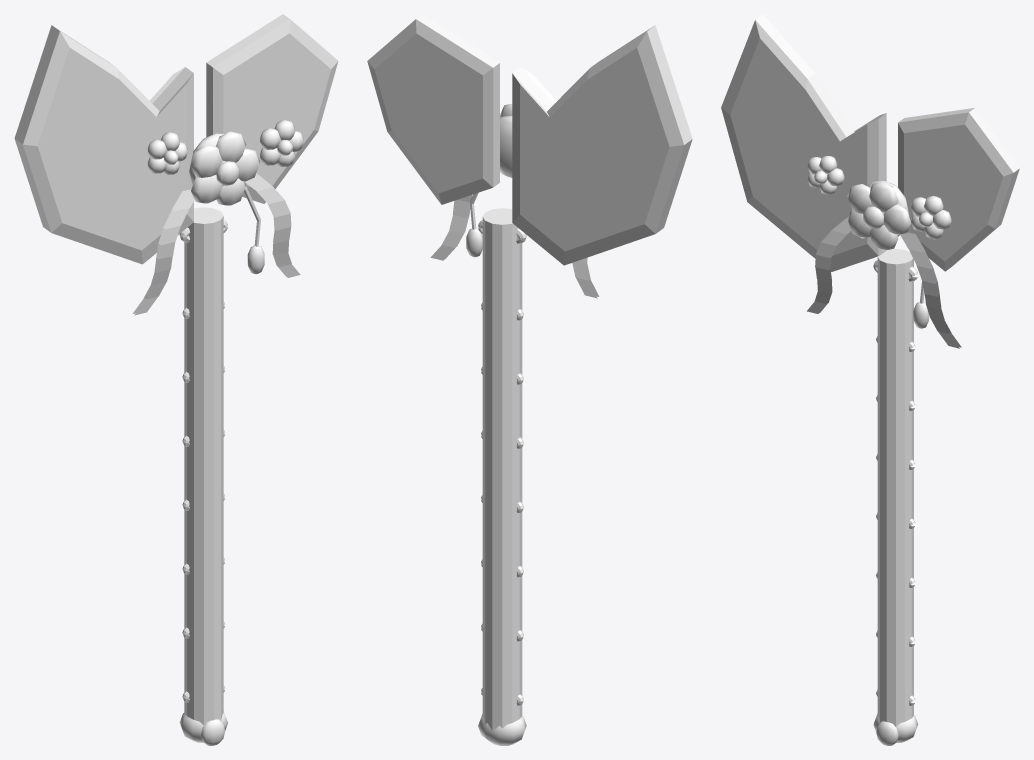
The model's file is axe.obj.
3 views of the same model, side by side, from view 1: azimuth 30°, elevation 25°; view 2: azimuth 150°, elevation 25°; view 3: azimuth 330°, elevation 25° (orthographic). The views are drawn at different scales.
Bounding box in the file's own units: 0.4625 × 1.05 × 0.0964.
